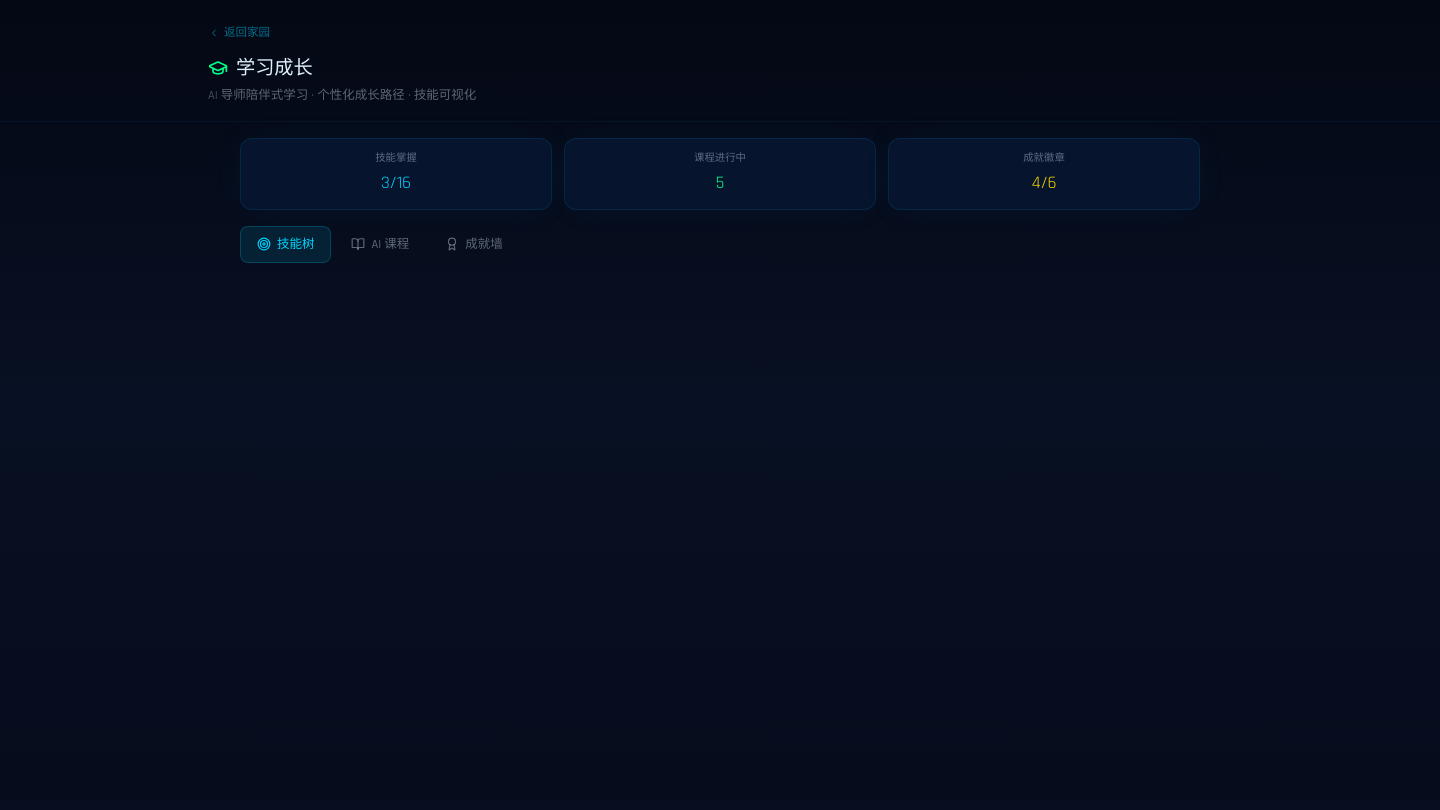
Scenario: ai-family/FamilyLearn › 成就墙可切回技能树 (tab 状态复用)
The width and height of the screenshot is (1440, 810).
Click the button "成就墙": (474,244) top-left (429, 226), bottom-right (519, 262)
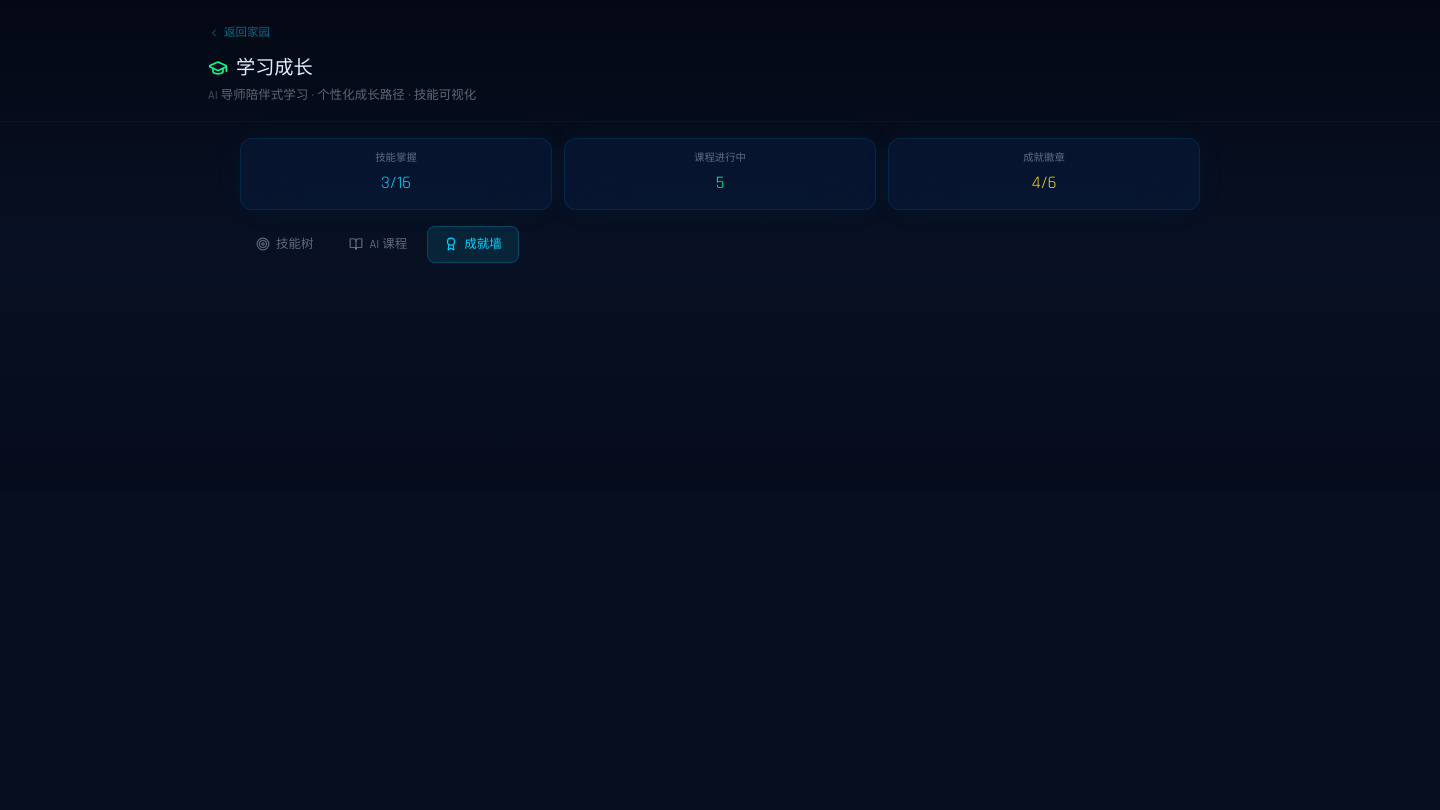
Expected: the text "机器学习基础" is not shown
Click the button "技能树": (285,244) top-left (240, 226), bottom-right (329, 262)
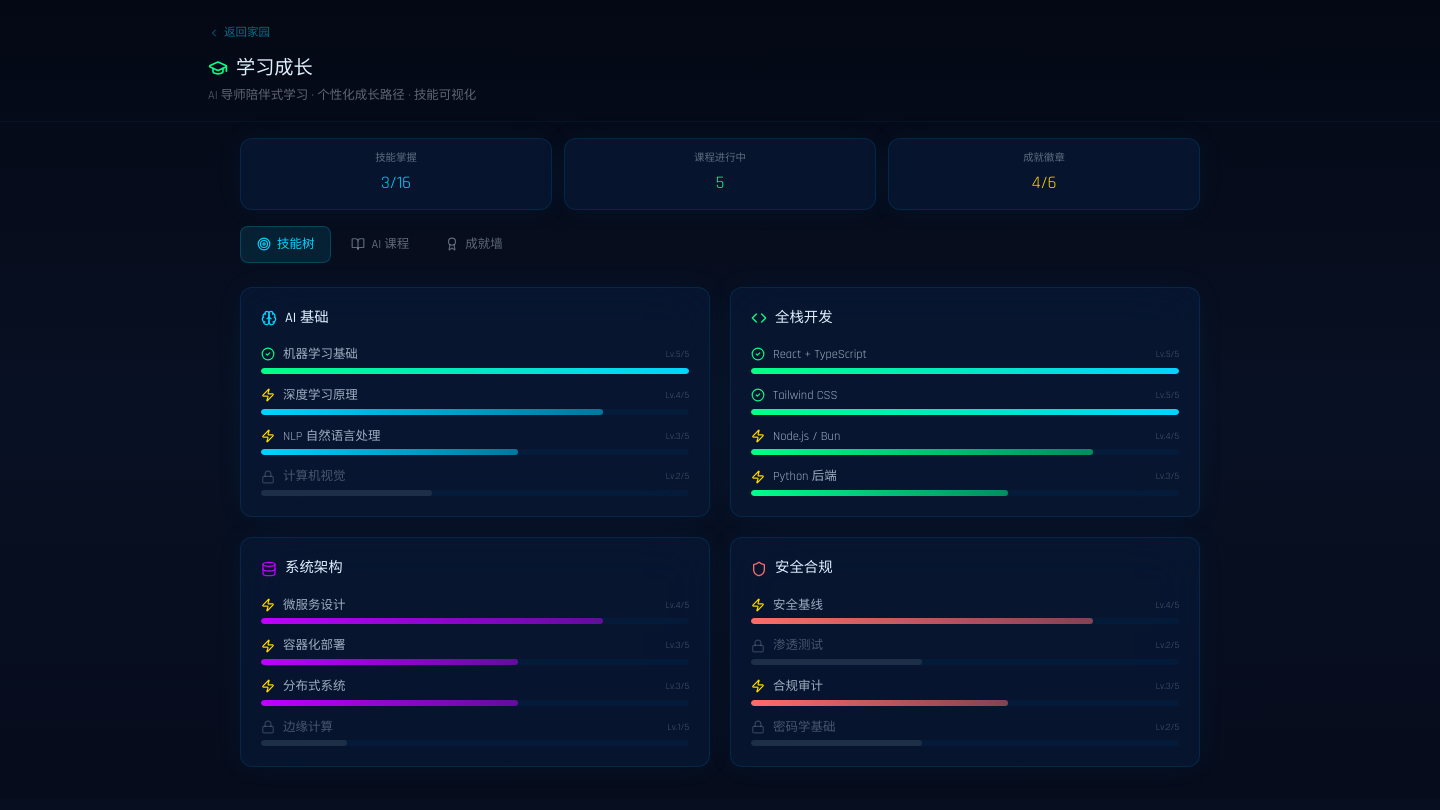
Now the text "机器学习基础" is shown, box top-left (283, 345), bottom-right (358, 364)
